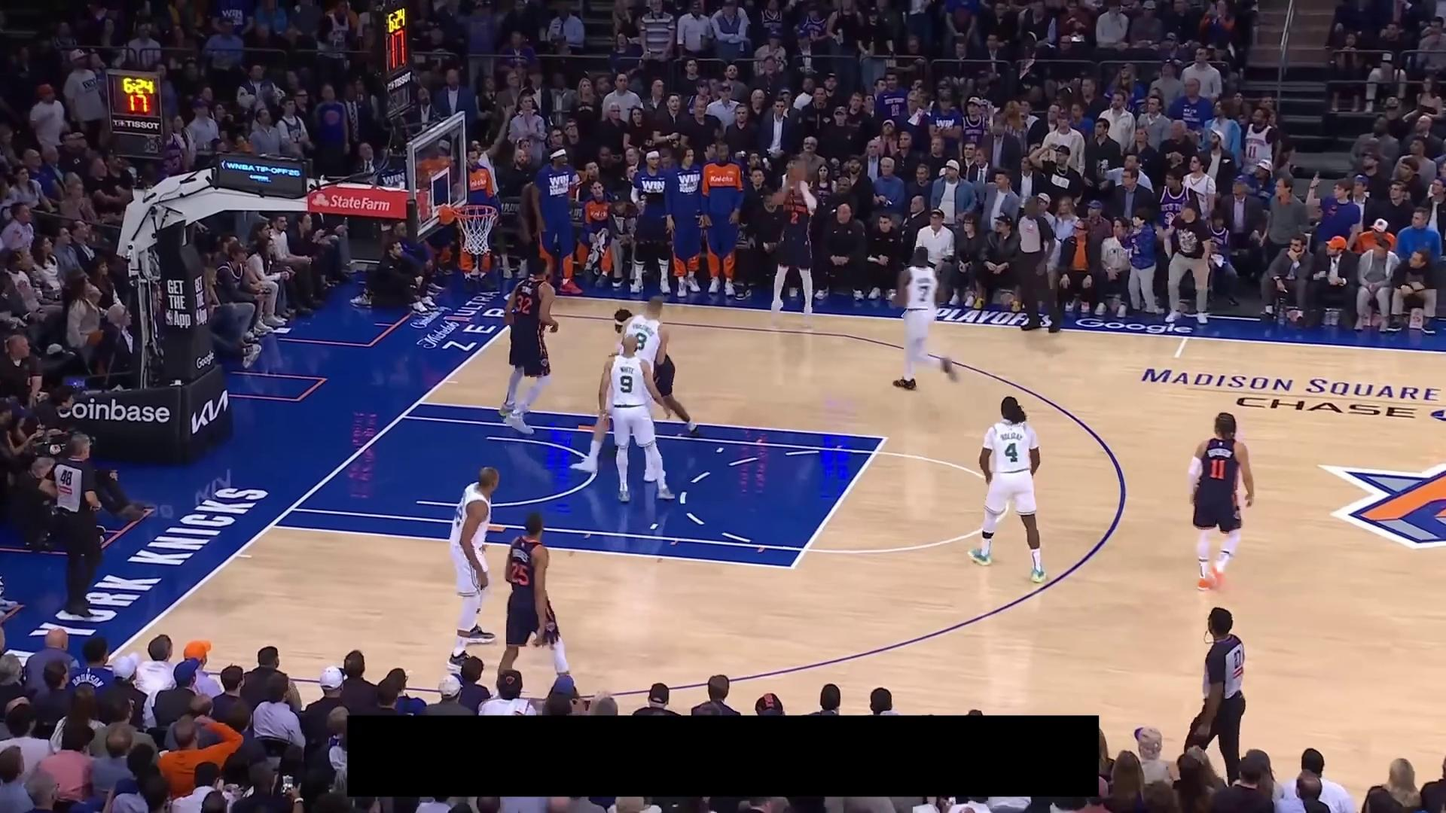ball: (786, 158, 810, 183)
number: (509, 561, 529, 586), (1209, 458, 1227, 480), (517, 294, 532, 315), (1005, 442, 1020, 463), (917, 284, 930, 303), (620, 375, 633, 394), (634, 332, 647, 351), (790, 210, 799, 225)
player: (570, 296, 670, 482), (494, 510, 575, 701), (969, 394, 1048, 584), (598, 334, 676, 502), (1188, 410, 1255, 592), (444, 465, 501, 676), (497, 255, 560, 434), (614, 308, 699, 439), (890, 244, 960, 391)
player-jump-shot: (768, 161, 817, 324)
referee: (43, 432, 106, 619), (1181, 607, 1249, 778), (1005, 195, 1060, 334)
rim: (453, 203, 499, 219)
